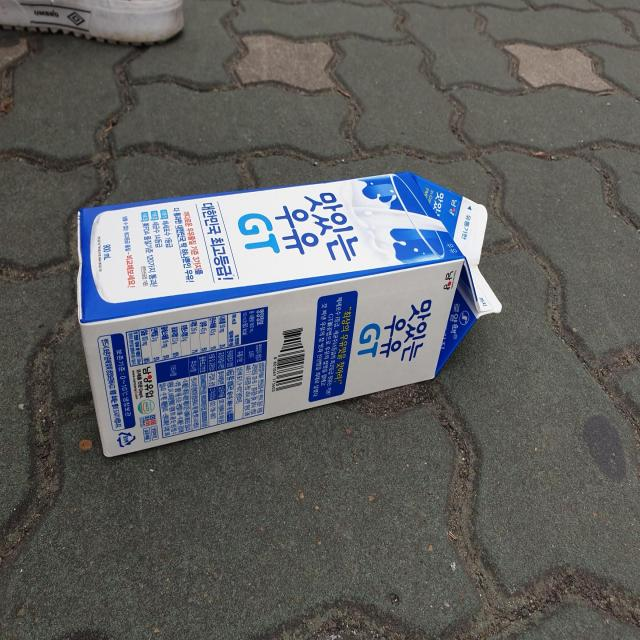paperpack: (77, 172, 502, 457)
